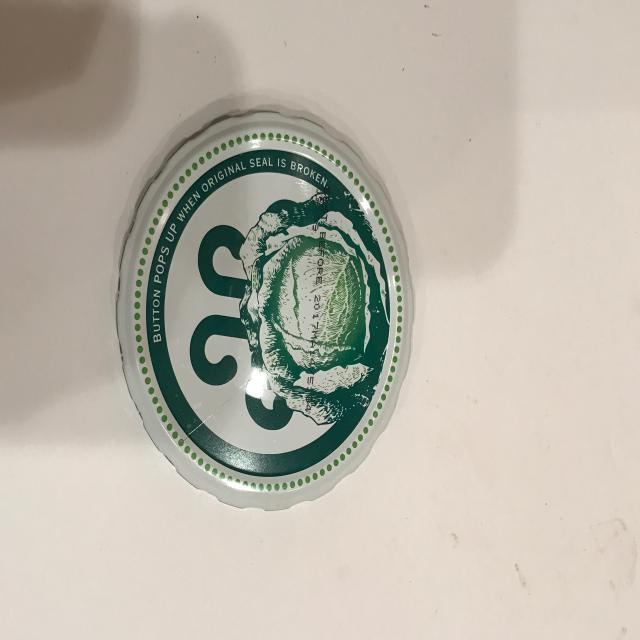metal: (116, 109, 419, 517)
